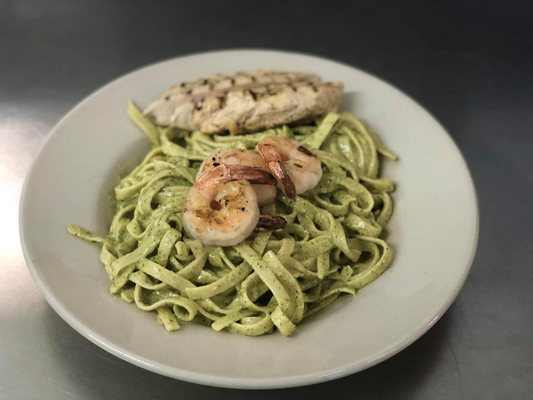curry: (5, 0, 522, 398)
